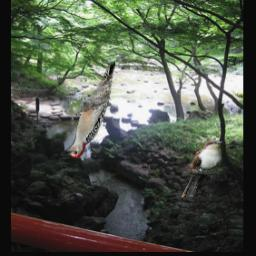Cuckoo: (182, 141, 223, 198)
Woodpecker: (61, 61, 115, 158)
